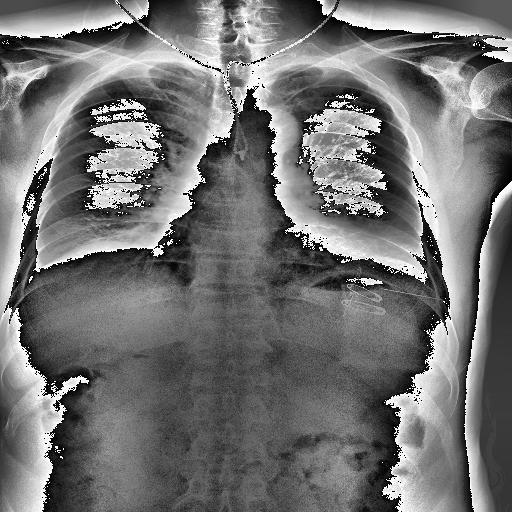0- Aortic enlargement: (242, 110, 302, 160), (256, 106, 304, 162), (251, 110, 307, 149)
10- Pleural effusion: (382, 232, 428, 279), (14, 248, 54, 282)
11- Pleural thickening: (382, 232, 428, 279), (14, 248, 54, 282), (25, 256, 49, 289)
3- Cardiomegaly: (156, 186, 402, 266), (140, 225, 372, 298), (153, 212, 385, 278)
